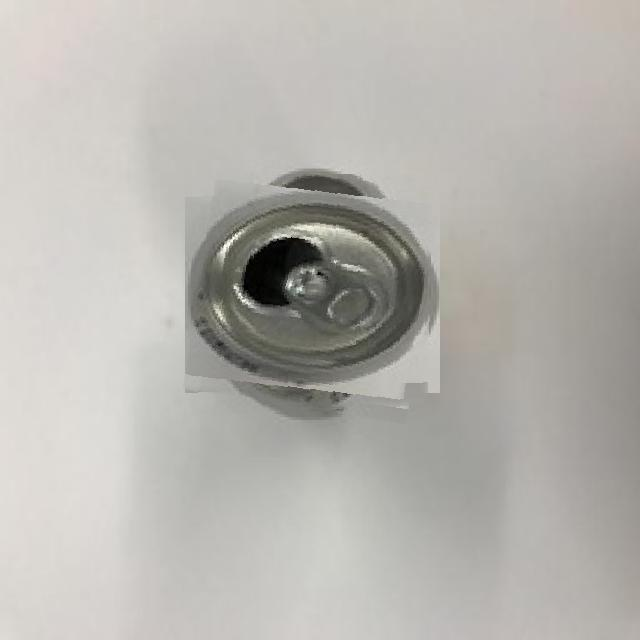recyclable: (191, 174, 433, 416)
